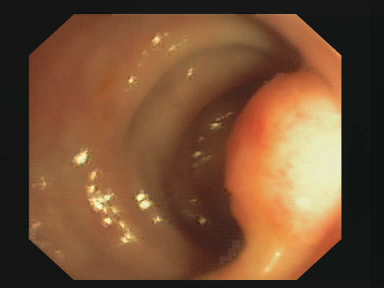polyp: (183, 73, 345, 250)
